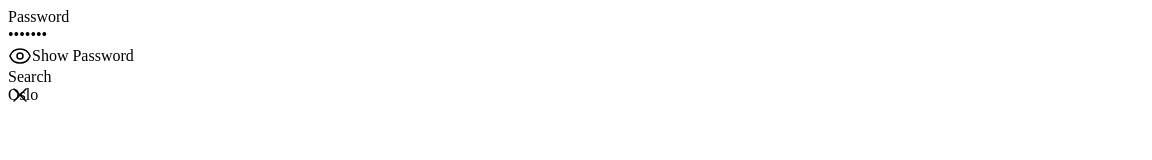
Test: PasswordField reveal keeps the same value and SearchField clear resets text
The image size is (1152, 160).
Click the button "Show Password".
click(71, 56)  # box [8,44,134,68]
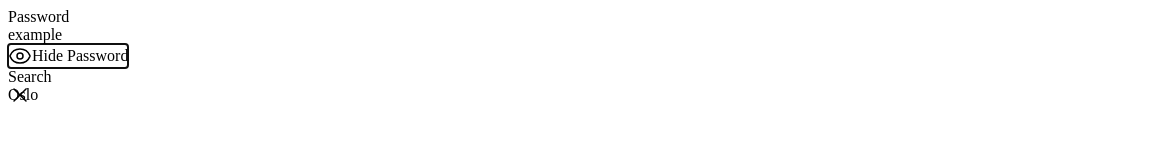
Expected: the field labelled "Password" shows its text, [8,26,1144,44]
Click the button named "Clear Search".
click(20, 95)  # box [8,83,32,107]
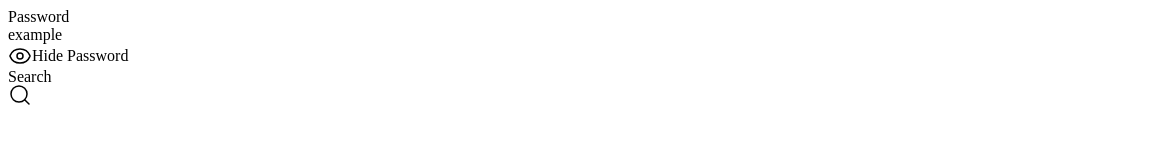
Expected: the search field is empty, [8,86,1144,104]
